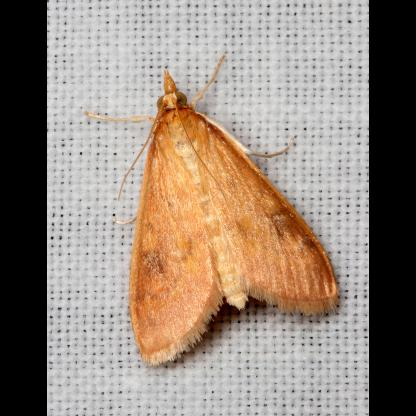Asian Corn Borer Moth: (82, 52, 343, 372)
